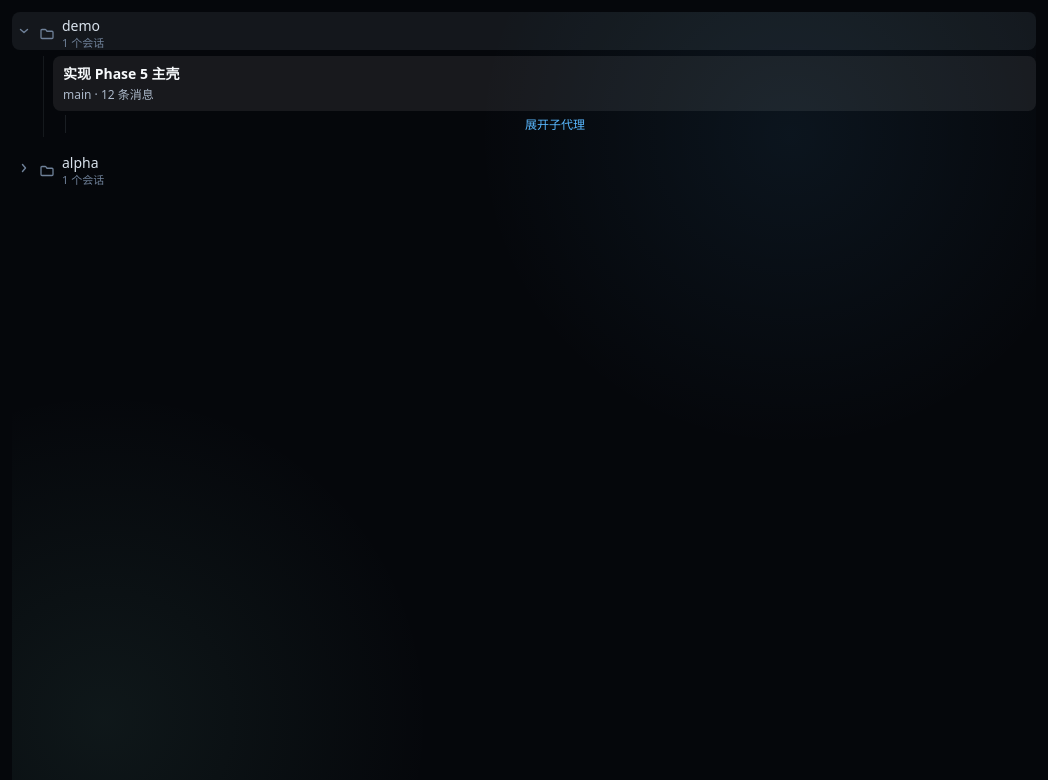
Test: project session trees › 子代理会话默认折叠，并可独立展开
Expected: the text "扫描 renderer 目录" is not shown
Click the button named "展开会话 \"实现 Phase 5 主壳\" 的 1 个子代理" at (555, 124), box [74,115,1036,133]
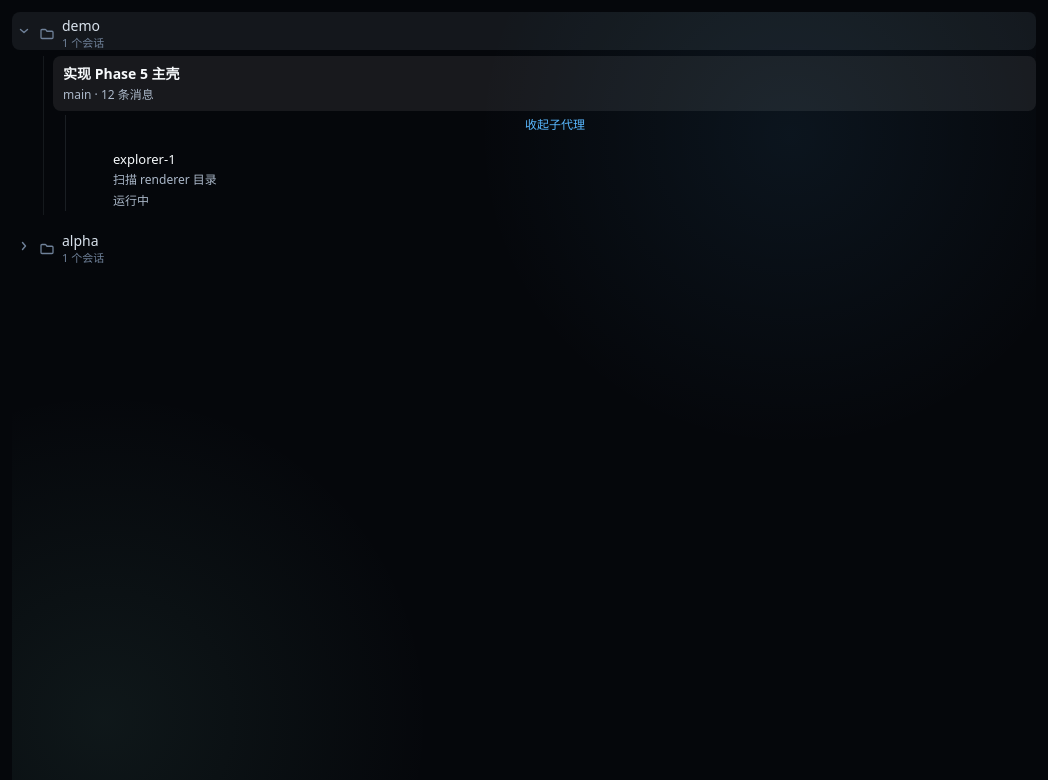
Now the text "扫描 renderer 目录" is shown, box [113,171,217,189]
